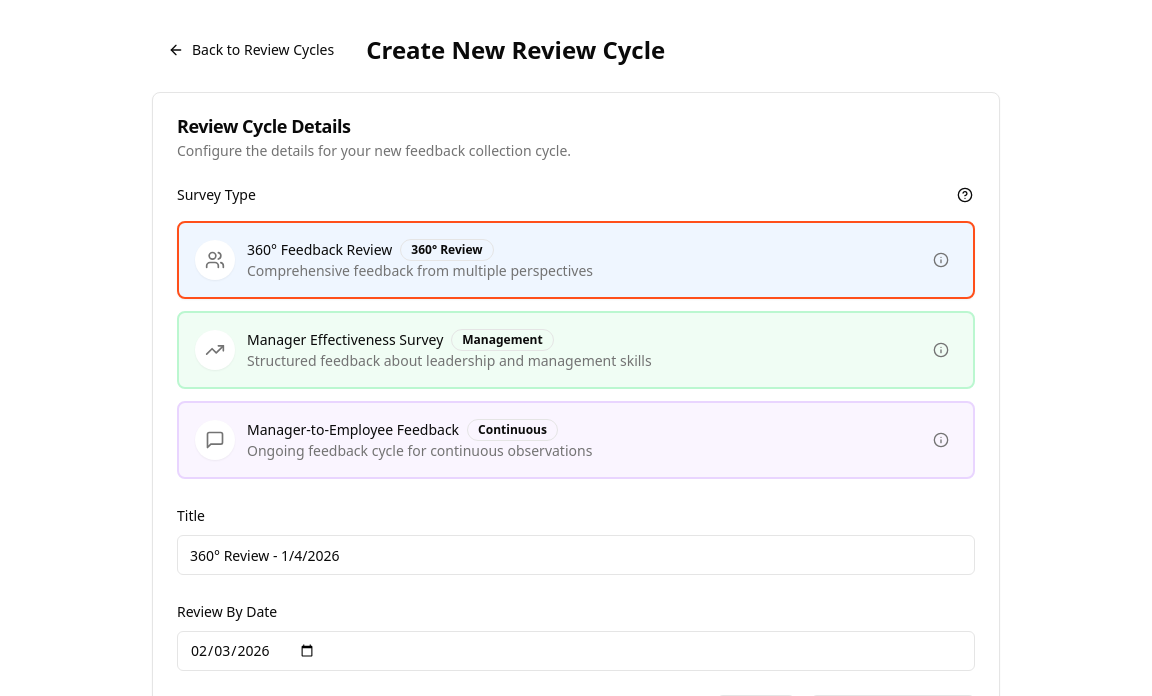
Test case: NewReviewCyclePage › opens popover with sample questions when info icon is clicked
Click the button named "View sample questions" in the row of "360° Review" at x=941, y=260, box [925,244,957,276]
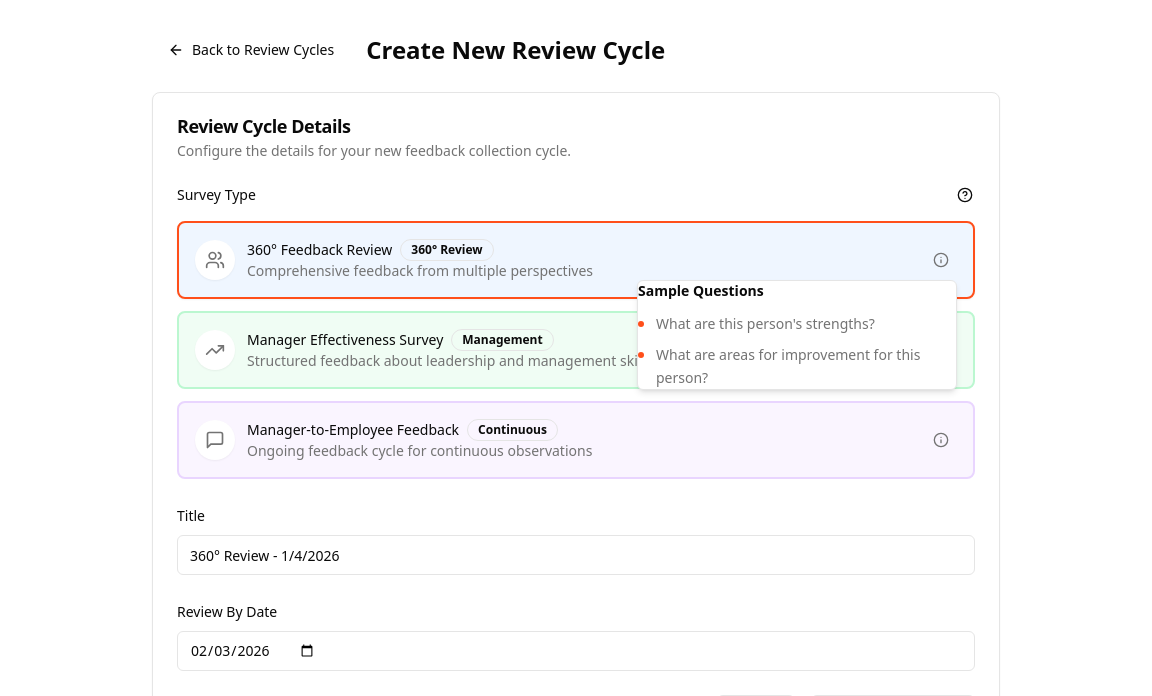
Expected: the heading "Sample Questions" is shown, [638,281,764,300]
Expected: the text "What are this person's strengths?" is shown, [656,313,875,336]
